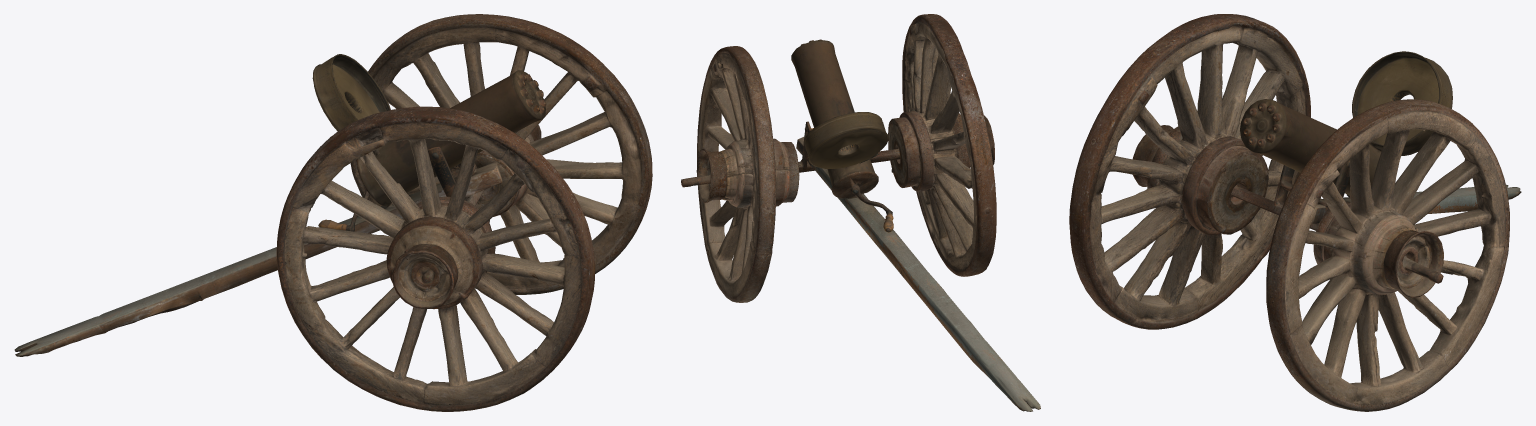
Rendered from old_gatling_gun_-_3d_scan_quixel_megascans.glb.
3 renders of one model, left to right at view 1: azimuth 30°, elevation 25°; view 2: azimuth 150°, elevation 25°; view 3: azimuth 270°, elevation 25°, orthographic. The views are drawn at different scales.
Parts seen in each view (by area): view 1: Aset_other__M_uc1kdjjfa_LOD0_2; view 2: Aset_other__M_uc1kdjjfa_LOD0_2; view 3: Aset_other__M_uc1kdjjfa_LOD0_2.
Boxes of the visible parts, <box> form: Aset_other__M_uc1kdjjfa_LOD0_2: <box>14,14,652,411</box>; Aset_other__M_uc1kdjjfa_LOD0_2: <box>681,14,1040,411</box>; Aset_other__M_uc1kdjjfa_LOD0_2: <box>1069,14,1521,411</box>.
Size of the model in its own units: 1.65 by 0.8736 by 1.2.
1 material, 1 textured.
